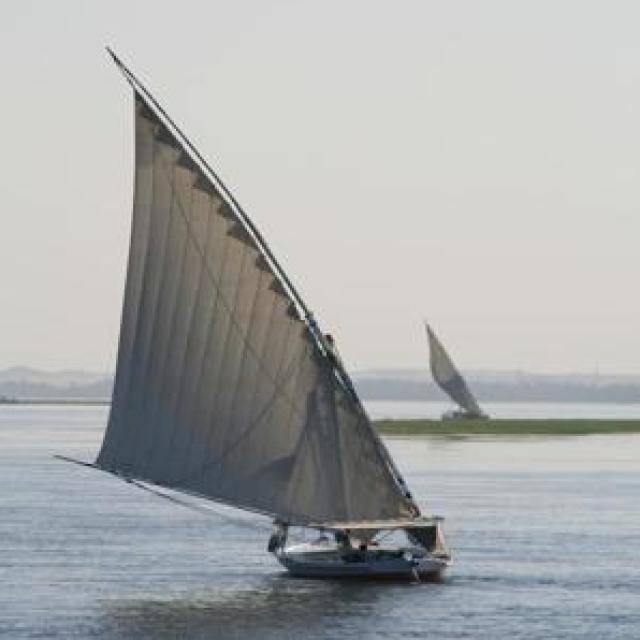sailboat: (74, 41, 457, 584), (411, 310, 511, 425)
